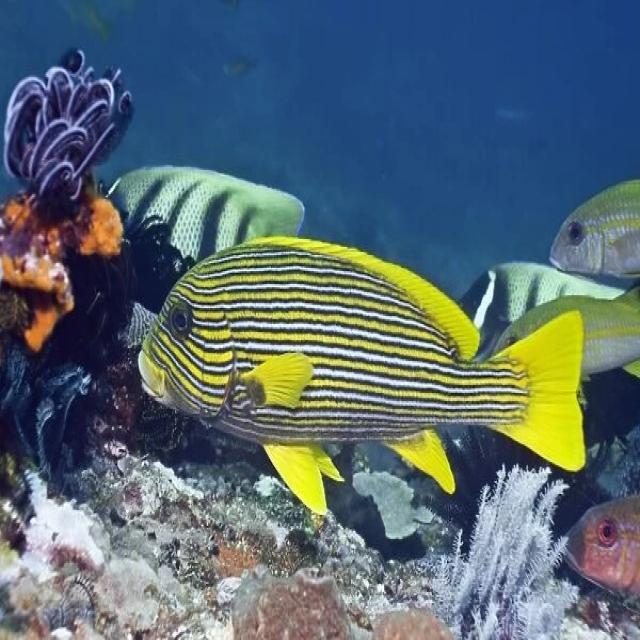RibbonedSweetlips: (135, 233, 588, 518)
